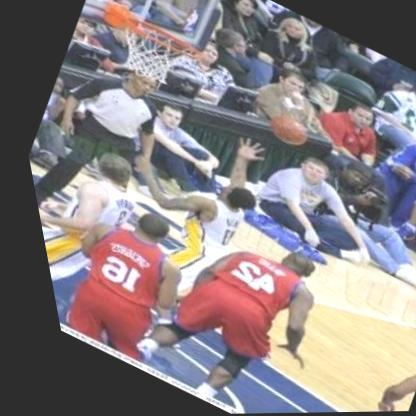basketball: (257, 108, 308, 150)
